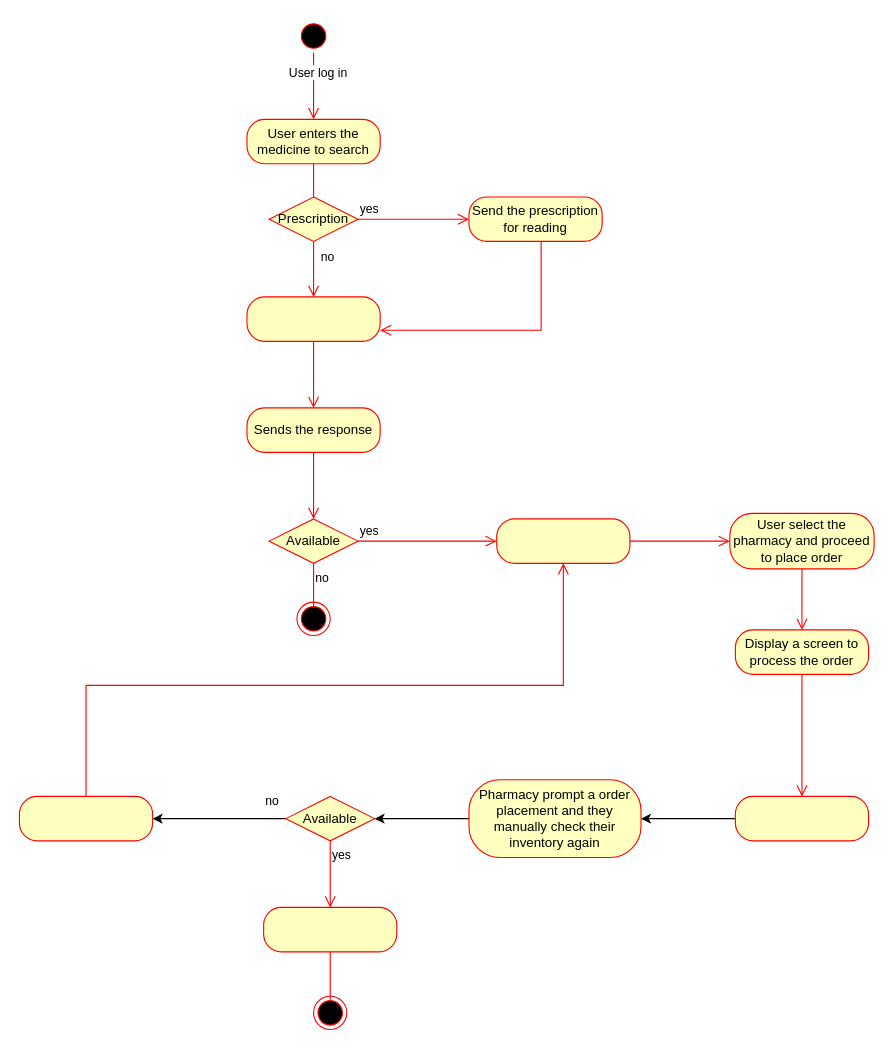
Some shapes in this 894 by 1049 pixel diagram are drawn without their labels. Each missing label, with the centre of its shape:
Complete the order: (330,929)
List the pharmacies: (563,540)
Search for the medicine in the item service: (313,318)
Sends the order to pharmacy: (801,818)
Show a message to user and cancel order: (85,818)
